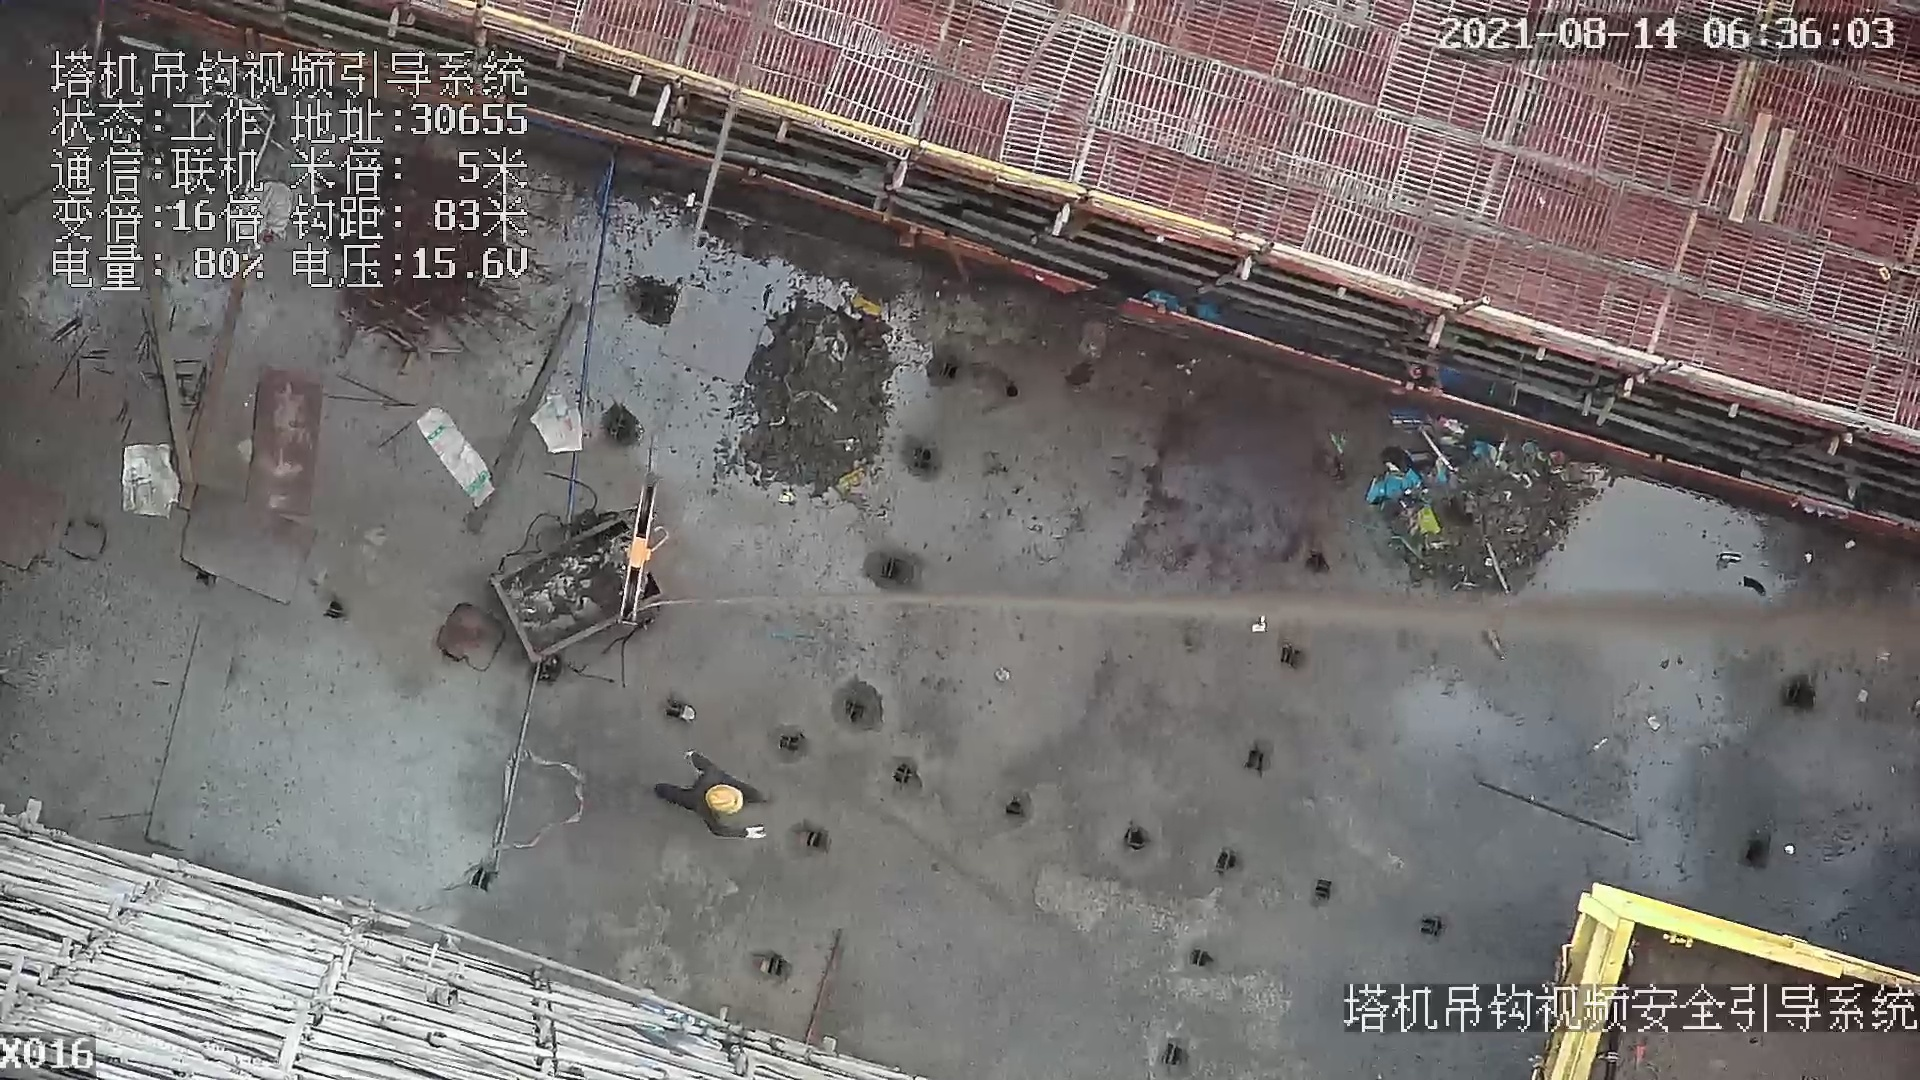helmet: (701, 785, 749, 821)
hook: (614, 482, 670, 622)
hopper: (481, 491, 682, 696)
person: (649, 744, 769, 850)
